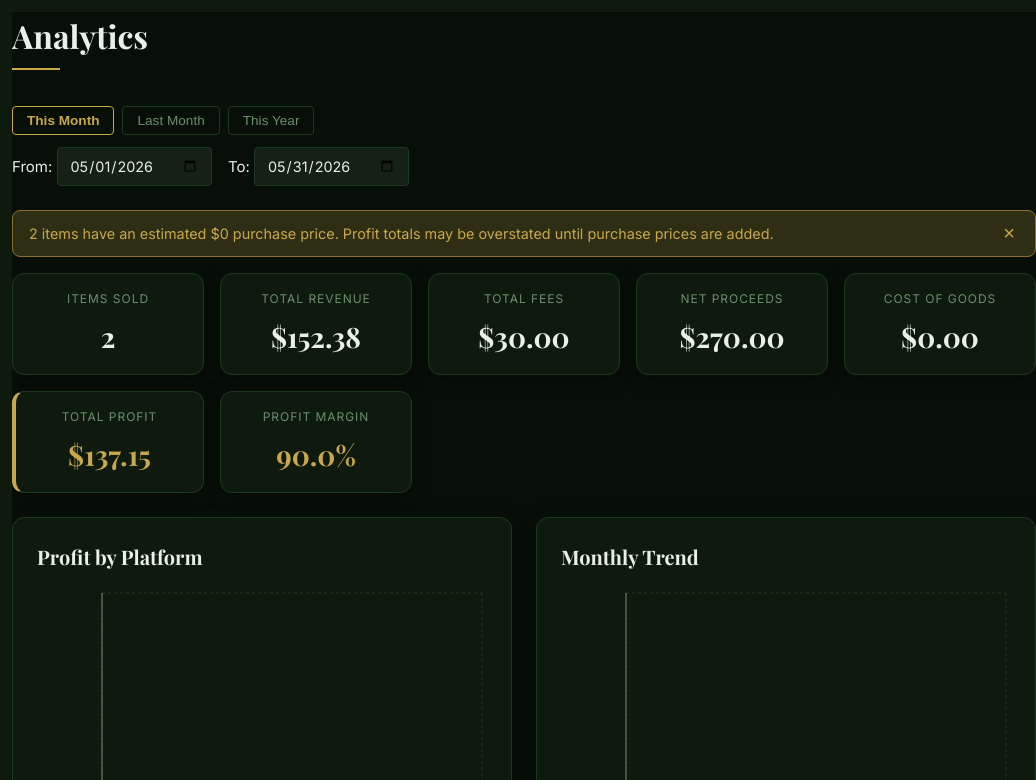
Test case: AnalyticsPage › hides pending cost banner after dismiss click
Expected: the text with test id "pending-count" is shown, 29,225 -> 38,242
Click the button named "dismiss" at (1009, 233), box 999,223 -> 1019,243
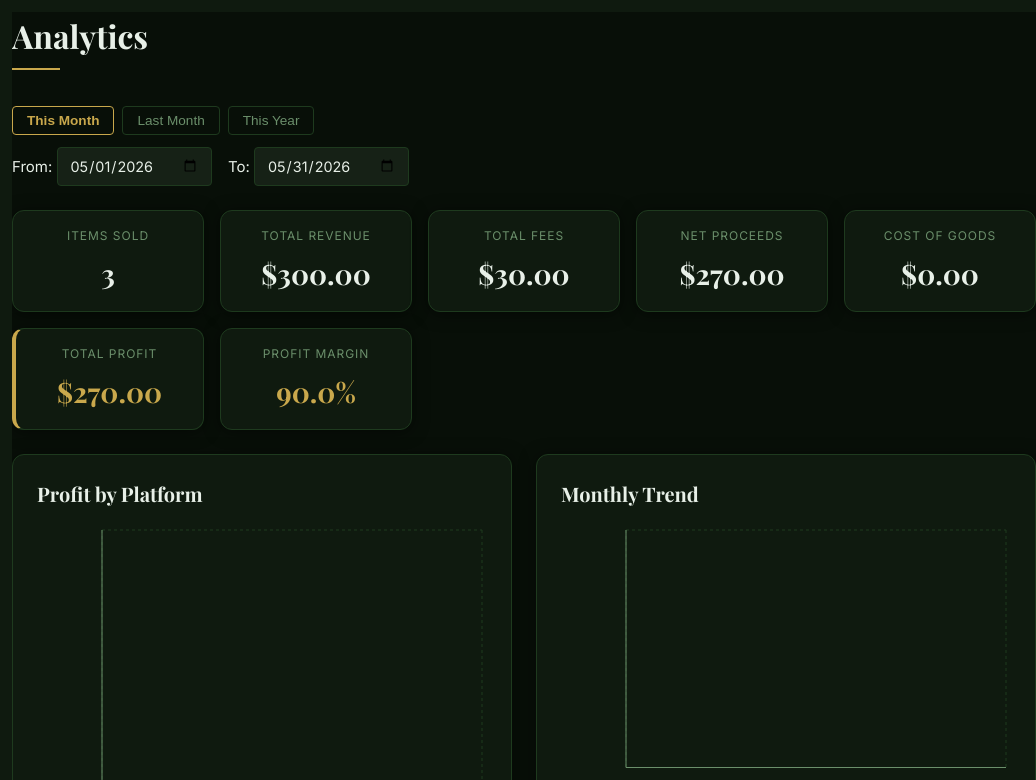
Expected: the text with test id "pending-count" is gone
